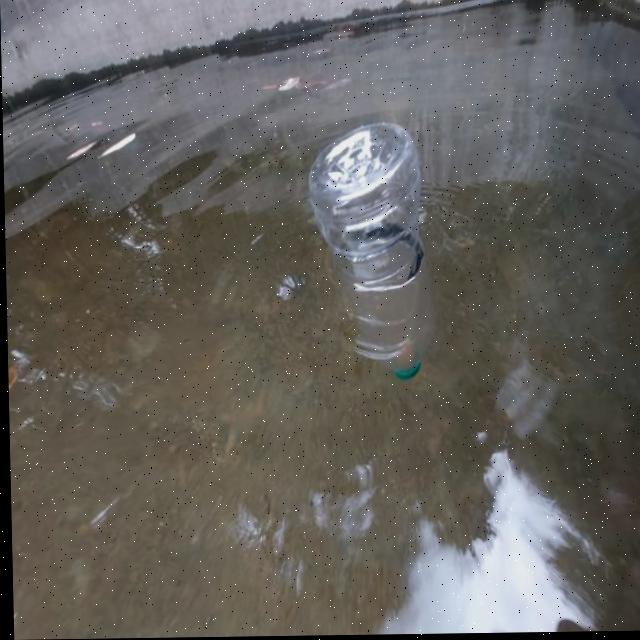waterbottle: (291, 114, 448, 400)
